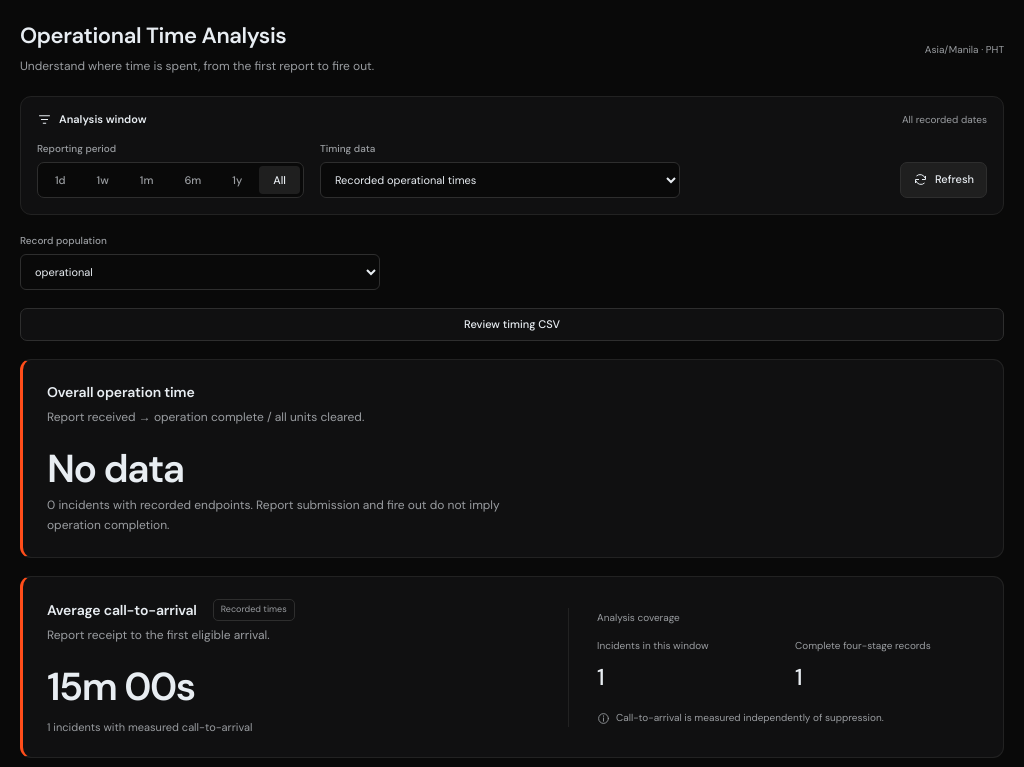
Test case: Operational time analysis › opens recorded operational data and keeps imported demo timing available explicitly
The image size is (1024, 767).
expect the heading "Operational Time Analysis" is shown: met, box 20,21 -> 286,50
expect the text "Demonstration timing" is not shown: met
Click the button "1w" at [103, 180], box 83,166 -> 123,194
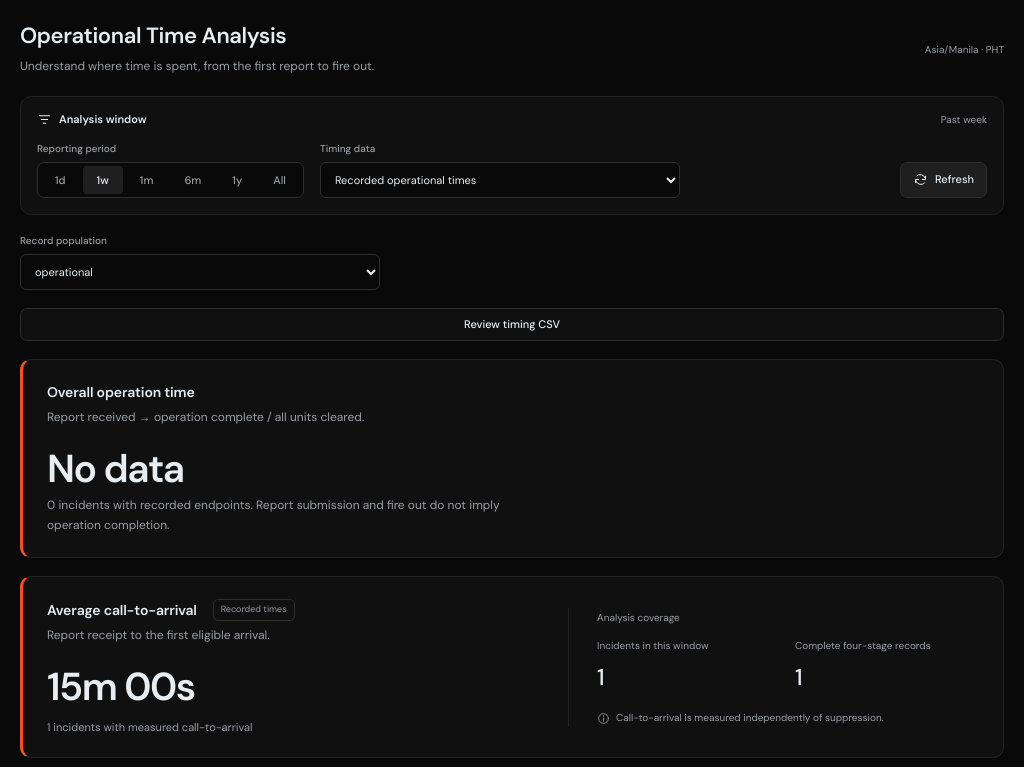
Select "BFP history · synthesized demo times" in the dropdown named "Timing data" at [500, 180], box 320,162 -> 680,198
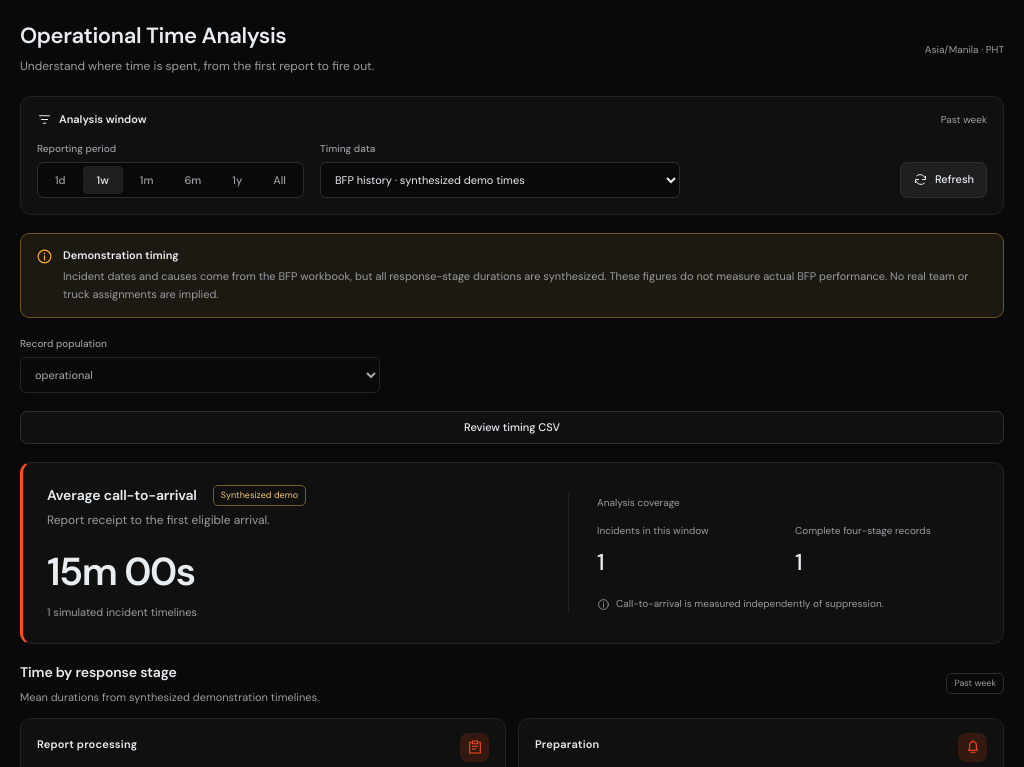
expect the text "Demonstration timing" is shown: met, box 63,248 -> 179,262
